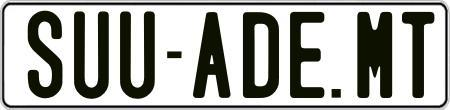A: (190, 10, 227, 100)
D: (240, 11, 277, 99)
E: (289, 10, 325, 96)
M: (355, 11, 396, 99)
S: (27, 10, 64, 100)
T: (401, 9, 432, 98)
U: (120, 11, 160, 104), (74, 11, 113, 105)
